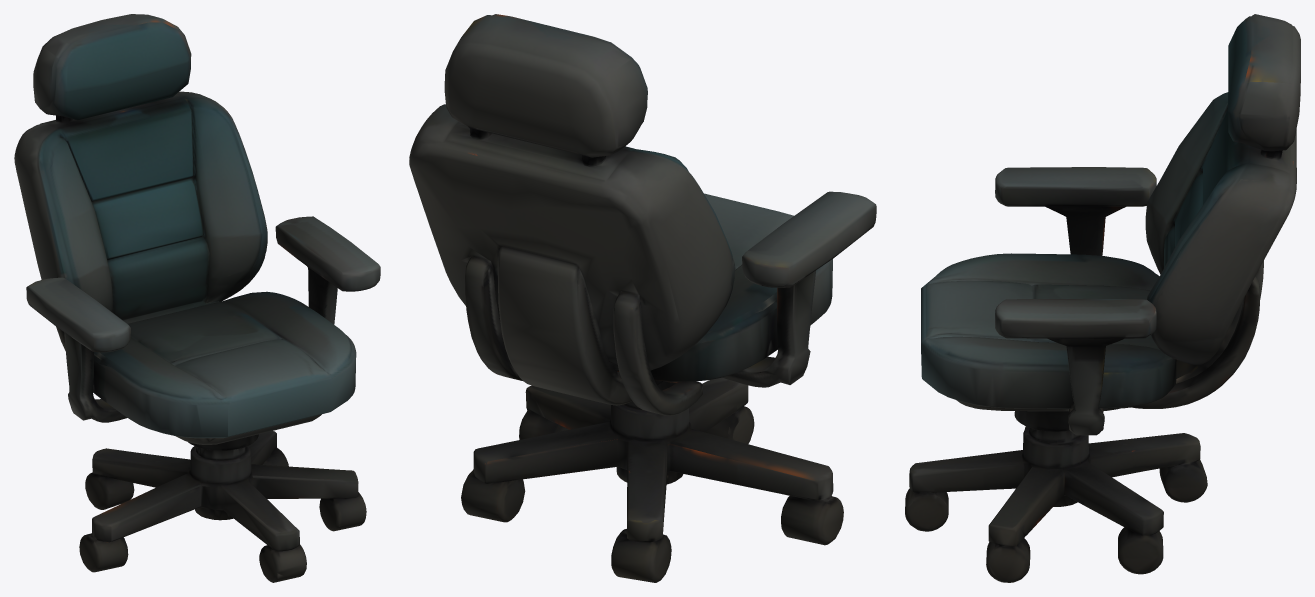
Rendered from office chair.fbx.
3 views of the same model, side by side, from view 1: azimuth 30°, elevation 25°; view 2: azimuth 150°, elevation 25°; view 3: azimuth 270°, elevation 25° (orthographic). The views are drawn at different scales.
Visible parts, largest first — view 1: node_0.003; view 2: node_0.003; view 3: node_0.003.
Boxes of the visible parts, x1,y1,x2,y2 form: node_0.003: [14, 14, 380, 582]; node_0.003: [409, 14, 876, 582]; node_0.003: [905, 14, 1300, 582].
Bounding box in the file's own units: 0.3536 × 0.5136 × 0.3845.
Materials: 1 (1 with a texture image).
